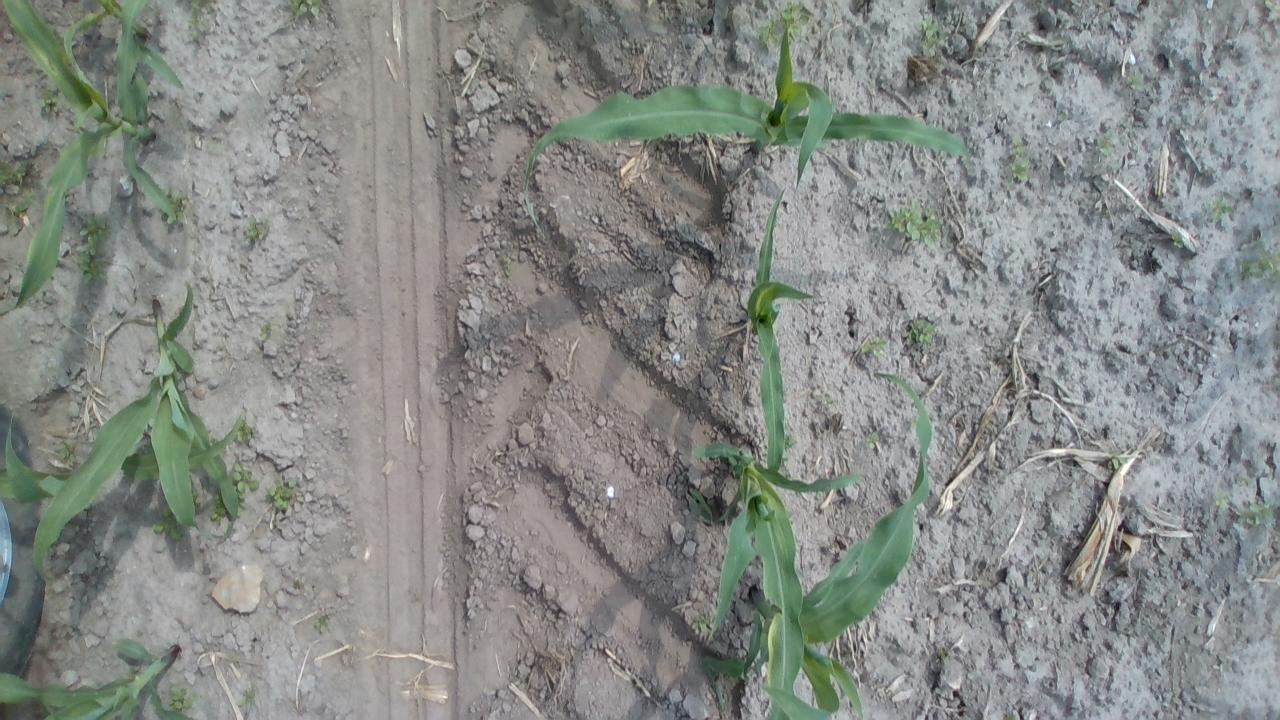Maize: (520, 24, 978, 245), (698, 374, 934, 720), (0, 288, 252, 593), (0, 0, 185, 312), (687, 428, 816, 716), (737, 187, 806, 481), (0, 632, 195, 720), (65, 0, 185, 122)
Weeds: (876, 197, 952, 249), (758, 0, 812, 50), (0, 157, 42, 219), (77, 217, 113, 288), (1236, 239, 1280, 283), (1002, 139, 1036, 190), (265, 475, 308, 515), (228, 460, 264, 504), (911, 14, 950, 53), (151, 500, 187, 542), (178, 0, 216, 38), (904, 316, 936, 349), (242, 214, 276, 245), (167, 684, 202, 714), (856, 334, 889, 364), (1203, 196, 1236, 226), (210, 491, 237, 527), (168, 188, 196, 221), (51, 439, 83, 467), (288, 0, 324, 22), (37, 90, 64, 119), (233, 419, 260, 448), (1241, 500, 1271, 526), (496, 251, 520, 283), (1124, 71, 1154, 96), (256, 319, 278, 348), (188, 481, 206, 516), (311, 610, 334, 636), (236, 687, 258, 714), (691, 612, 714, 636), (1093, 132, 1115, 157), (782, 431, 798, 462), (861, 427, 878, 452), (1166, 231, 1189, 248), (1109, 453, 1128, 472), (1212, 490, 1230, 509)
